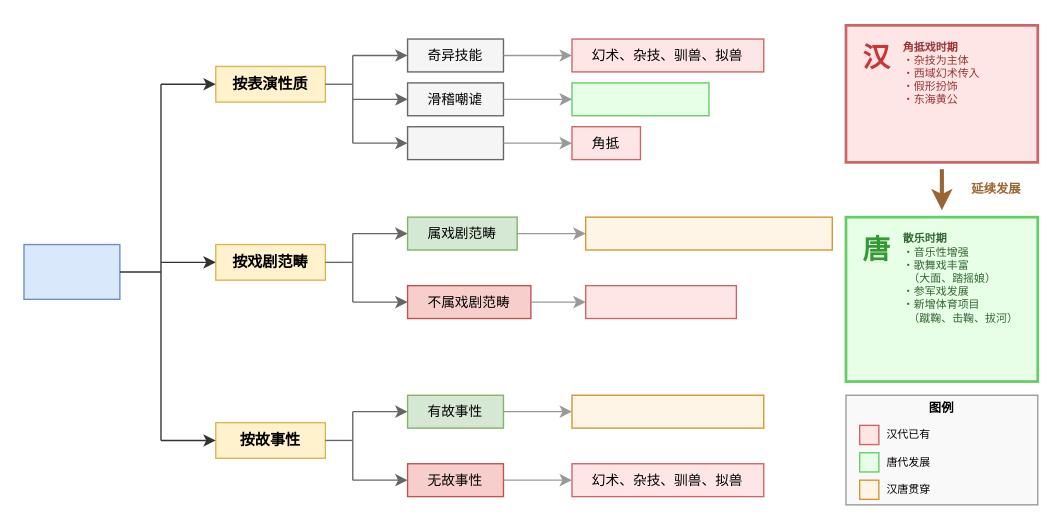
Image size: 1063x529. Some labels were removed from this diagram. The shapes that lost their labels are listed below. From the top down, each one's centre as x and y in pixels, then its label:
pixel 640 99: 歌舞戏、滑稽戏
pixel 454 142: 武力对抗
pixel 708 233: 歌舞戏、滑稽戏、角抵戏、拟兽
pixel 71 271: 百戏
pixel 660 301: 幻术、杂技、驯兽
pixel 667 411: 滑稽戏、歌舞戏、角抵
